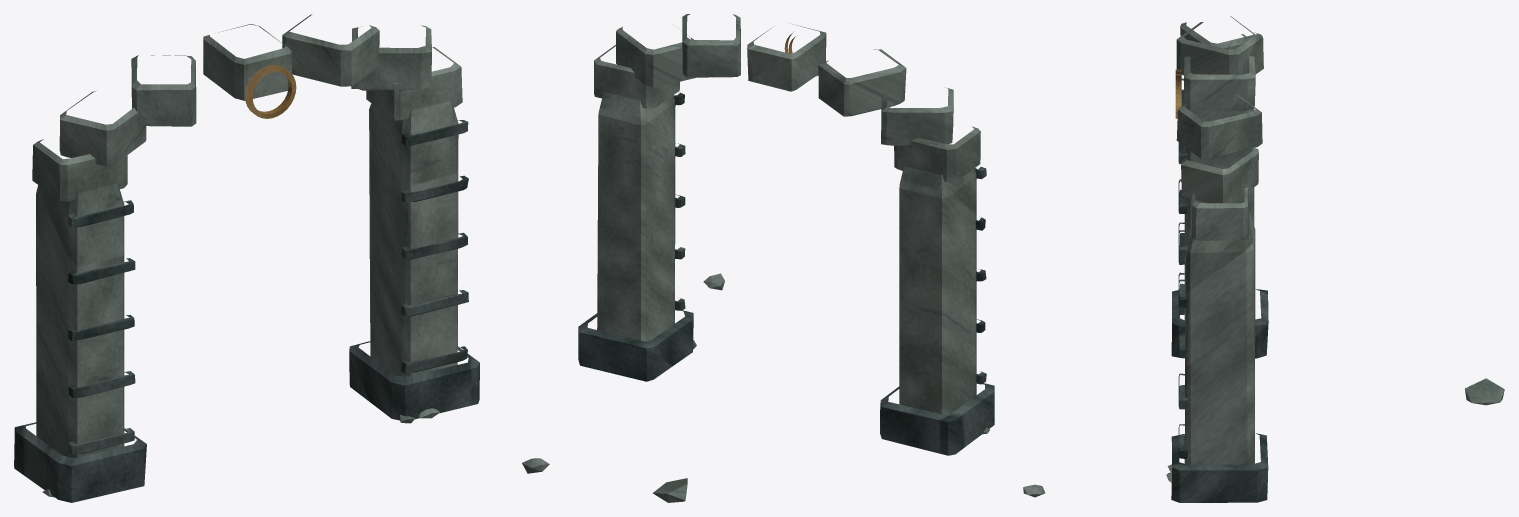
Rendered from 0309_archway_09.glb.
3 renders of one model, left to right at view 1: azimuth 30°, elevation 25°; view 2: azimuth 150°, elevation 25°; view 3: azimuth 270°, elevation 25°, orthographic. The views are drawn at different scales.
Visible parts, largest first — view 1: stone, stone_dark, brass; view 2: stone, stone_dark; view 3: stone, stone_dark.
Part boxes in pixels (bbox=[...]): stone: bbox=[32, 14, 549, 497]; stone_dark: bbox=[14, 120, 479, 502]; brass: bbox=[245, 65, 296, 118]; stone: bbox=[594, 14, 989, 502]; stone_dark: bbox=[578, 92, 994, 455]; stone: bbox=[1023, 16, 1504, 497]; stone_dark: bbox=[1171, 78, 1268, 502].
Size of the model in its own units: 3.89 by 3.5 by 4.32.
3 materials, 3 textured.
